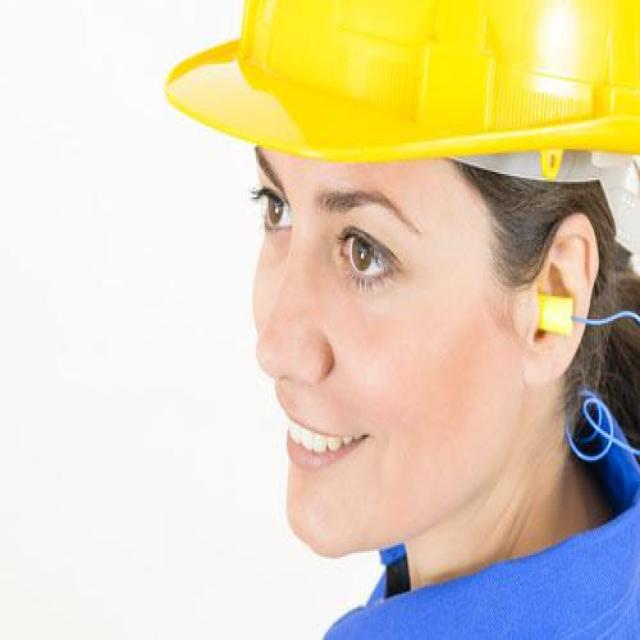helmet: (156, 0, 638, 545)
